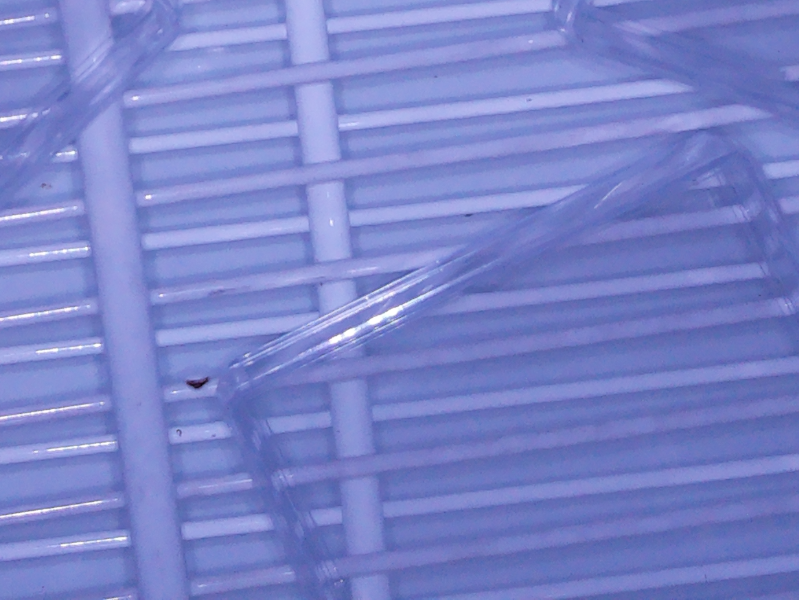plate: (215, 126, 799, 600), (1, 1, 187, 217), (541, 1, 799, 116)
